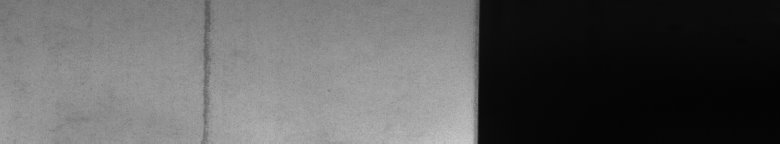hd: (199, 4, 216, 136)
